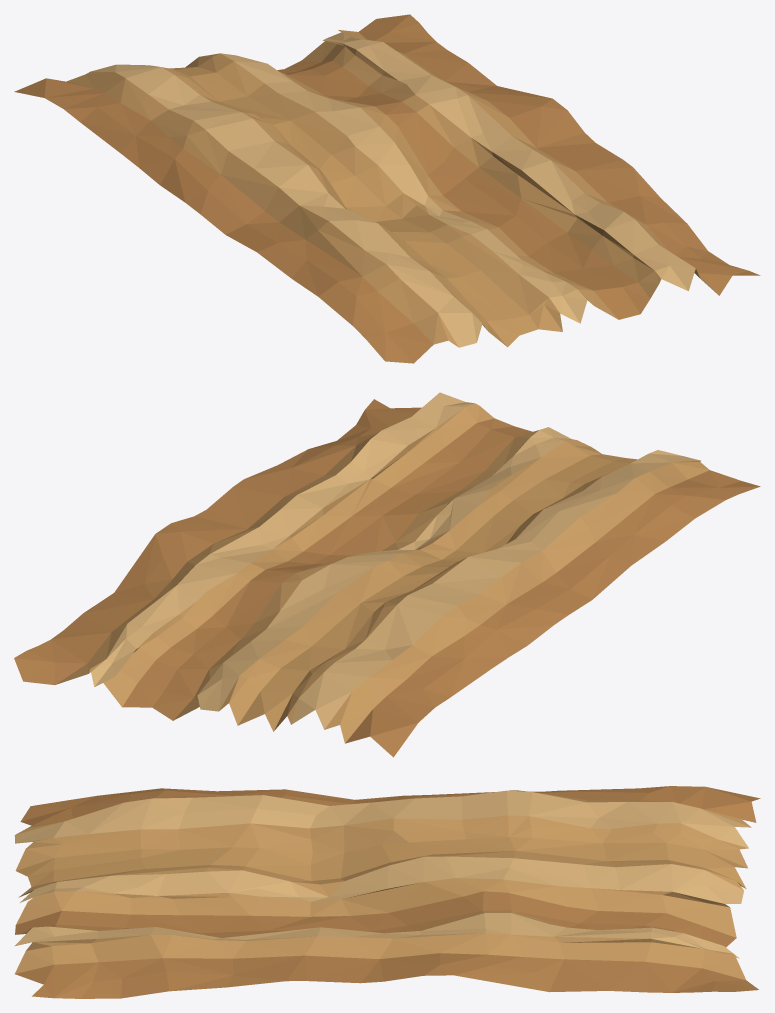
The model's file is EA_M_Env_Patch_Sand_01a.fbx.
3 renders of one model, top to bottom at view 1: azimuth 30°, elevation 25°; view 2: azimuth 150°, elevation 25°; view 3: azimuth 270°, elevation 25°, orthographic. The views are drawn at different scales.
Visible parts, largest first — view 1: EA_M_Env_Patch_Sand_01a_LOD0; view 2: EA_M_Env_Patch_Sand_01a_LOD0; view 3: EA_M_Env_Patch_Sand_01a_LOD0.
Part boxes in pixels (x1,y1,x2,y2): EA_M_Env_Patch_Sand_01a_LOD0: [14, 14, 760, 363]; EA_M_Env_Patch_Sand_01a_LOD0: [14, 392, 760, 757]; EA_M_Env_Patch_Sand_01a_LOD0: [14, 786, 760, 998].
Size of what is drawn, in the model's own units: 4.02 by 0.6772 by 6.74.
